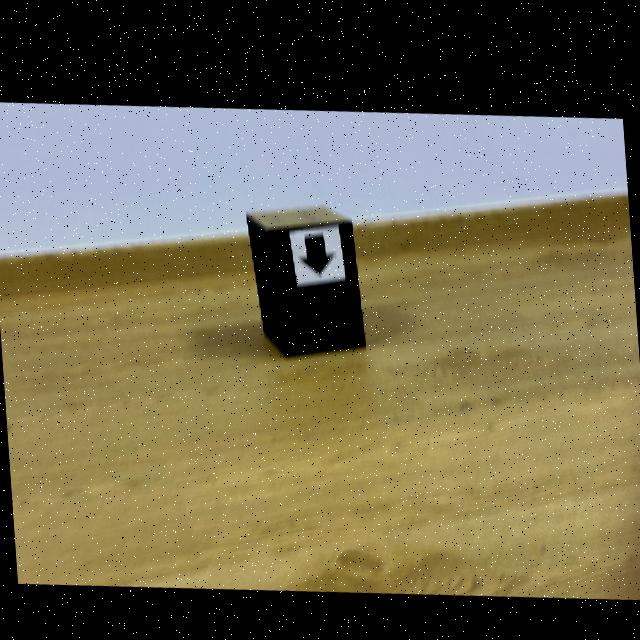DOWN: (297, 225, 334, 269)
